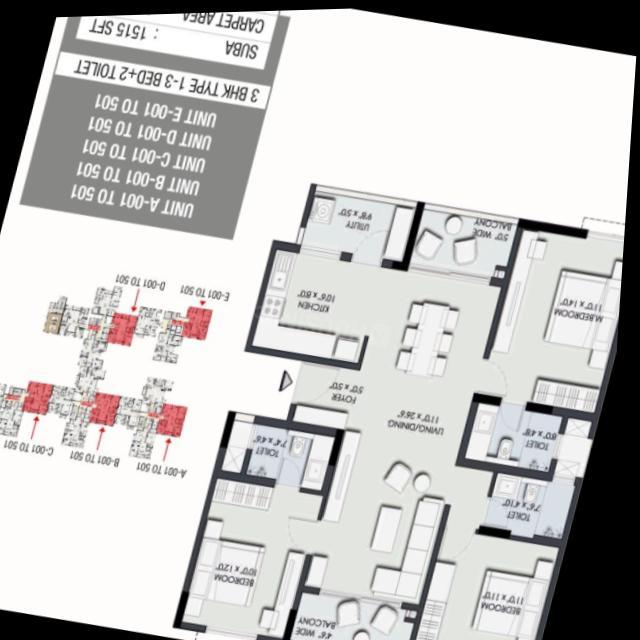Balcony-Sitout: (411, 205, 521, 280), (298, 589, 427, 640)
Bedroom: (423, 527, 569, 640)
Bedroom with Toilet: (469, 223, 627, 476), (186, 417, 346, 640)
Dining: (393, 290, 469, 385)
Enterance-Foyer: (272, 356, 369, 427)
Kitchen: (255, 248, 390, 364)
Living: (311, 382, 478, 606)
Toilet: (471, 401, 568, 472), (489, 470, 582, 540), (248, 421, 342, 490)
Utility: (304, 188, 420, 263)
